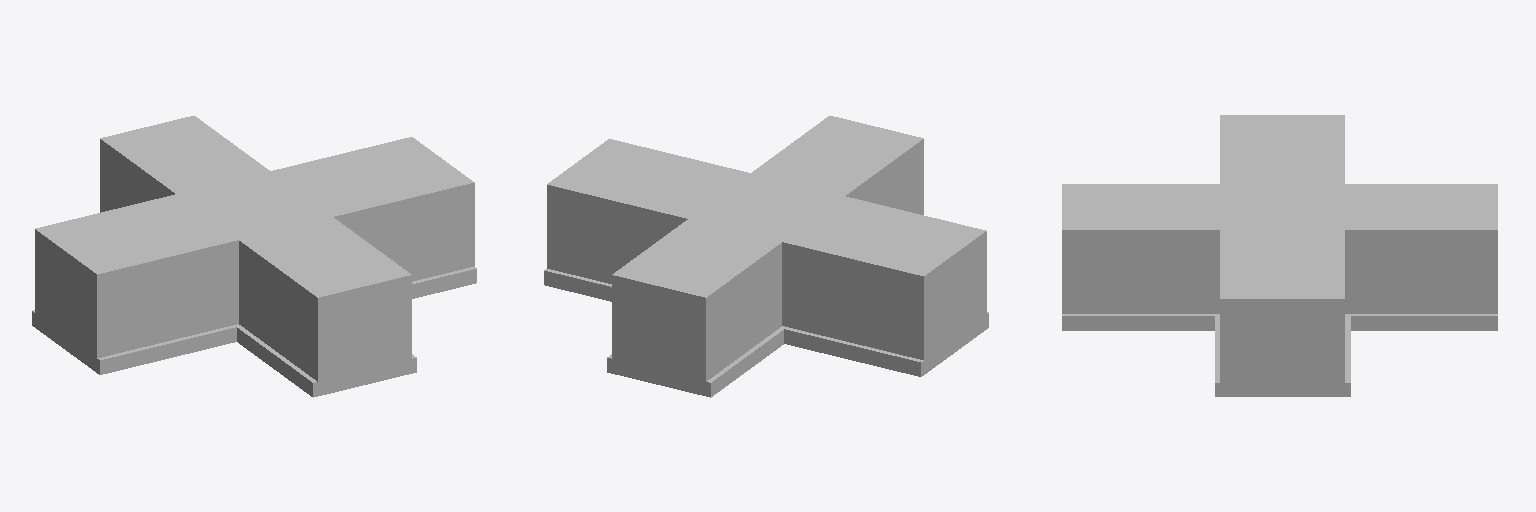
Rendered from Wall - cross.obj.
The picture shows the model from 3 angles: view 1: azimuth 30°, elevation 25°; view 2: azimuth 150°, elevation 25°; view 3: azimuth 270°, elevation 25°; orthographic projection.
Visible parts, largest first — view 1: object 1; view 2: object 1; view 3: object 1.
Part boxes in pixels (left/top/right/bottom): object 1: left=32, top=116, right=476, bottom=397; object 1: left=544, top=116, right=988, bottom=397; object 1: left=1062, top=115, right=1497, bottom=396.
Size of the model in its own units: 8 by 2 by 8.